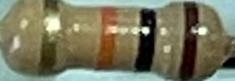Black: (135, 9, 157, 73)
Brown: (179, 1, 199, 80)
Orange: (97, 5, 117, 71)
Side-Gold: (36, 3, 62, 74)
